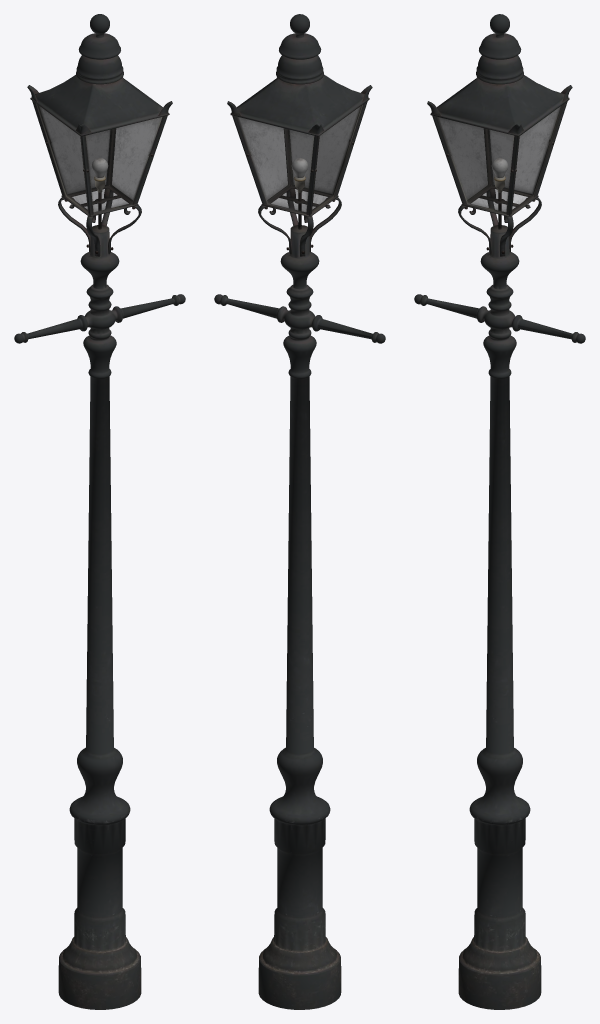
The model's file is lamp_post.glb.
3 renders of one model, left to right at view 1: azimuth 30°, elevation 25°; view 2: azimuth 150°, elevation 25°; view 3: azimuth 330°, elevation 25°, orthographic.
Visible parts, largest first — view 1: street_lamp_01; view 2: street_lamp_01; view 3: street_lamp_01.
Part boxes in pixels (x1,y1,x2,y2): street_lamp_01: [14, 14, 185, 1009]; street_lamp_01: [214, 14, 385, 1009]; street_lamp_01: [414, 14, 585, 1009].
Size of the model in its own units: 0.7279 by 4 by 0.3996.
Materials: 3 (3 with a texture image).
